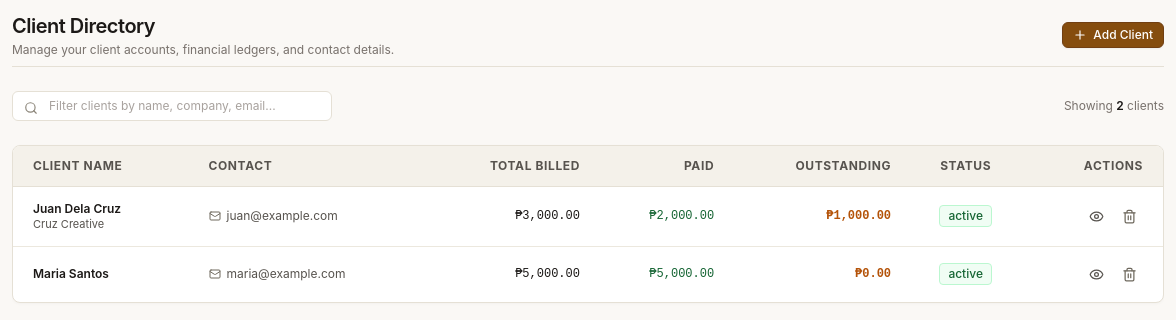
ClientsView Component › filters clients by search query
Check: the text "Juan Dela Cruz" is shown, box 33,201 -> 121,216
Type "Maria" into the field with placeholder "Filter clients by name, company, email..." at (172, 106), box 12,91 -> 332,121
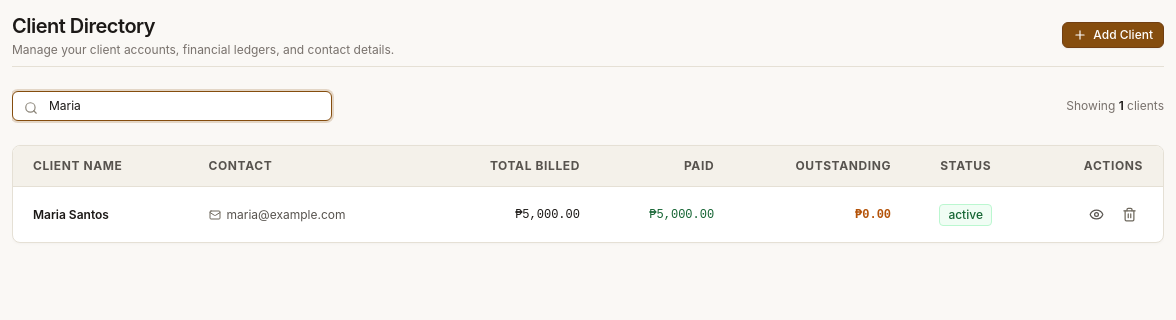
Check: the text "Maria Santos" is shown, box 33,206 -> 109,222
Check: the text "Juan Dela Cruz" is gone
